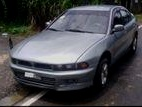car: (9, 5, 139, 94)
